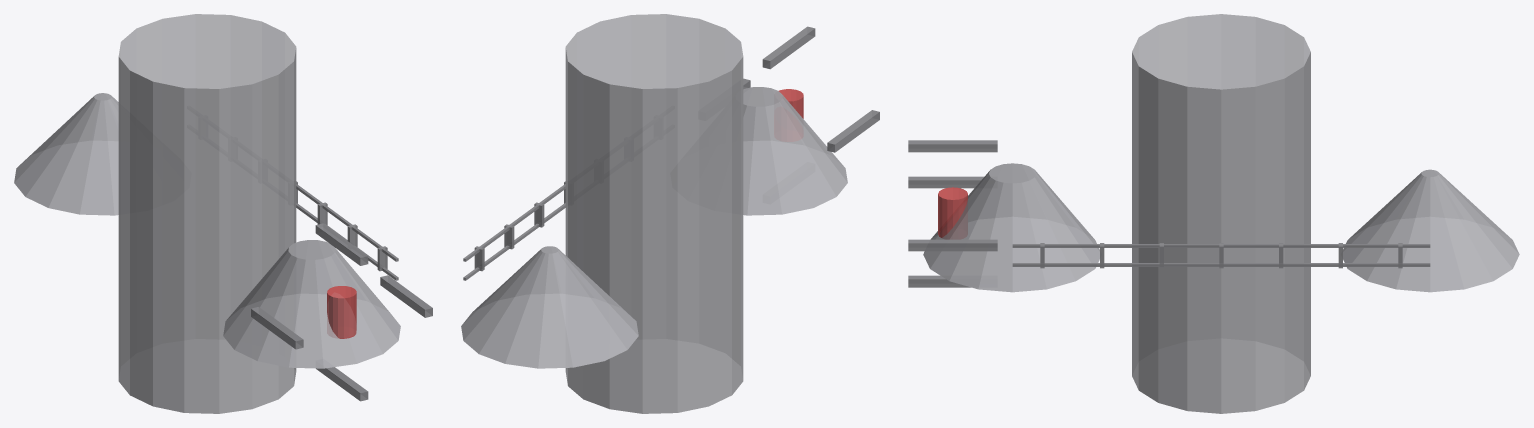
Rendered from storage_silo.glb.
The picture shows the model from 3 angles, left to right: view 1: azimuth 30°, elevation 25°; view 2: azimuth 150°, elevation 25°; view 3: azimuth 270°, elevation 25°; orthographic projection.
Parts seen in each view (by area): view 1: SiloBody, SiloBottom, SiloTop, Valve, Leg_90, Leg_0, Leg_180, Leg_270, LadderRail_0.35; view 2: SiloBody, SiloTop, SiloBottom, Valve, Leg_90, Leg_180, LadderRail_0.35, LadderRail_-0.35; view 3: SiloBody, SiloBottom, SiloTop, LadderRail_0.35, LadderRail_-0.35, Valve, Leg_0, Leg_90, Leg_180, Leg_270.
Part boxes in pixels (left/top/right/bottom): SiloBody: left=118, top=14, right=296, bottom=413; SiloBottom: left=223, top=240, right=400, bottom=368; SiloTop: left=14, top=93, right=118, bottom=215; Valve: left=327, top=286, right=356, bottom=338; Leg_90: left=315, top=223, right=368, bottom=265; Leg_0: left=380, top=275, right=432, bottom=317; Leg_180: left=251, top=307, right=303, bottom=349; Leg_270: left=316, top=367, right=368, bottom=401; LadderRail_0.35: left=296, top=184, right=398, bottom=261; SiloBody: left=565, top=14, right=743, bottom=413; SiloTop: left=461, top=246, right=638, bottom=368; SiloBottom: left=743, top=87, right=847, bottom=215; Valve: left=774, top=89, right=803, bottom=141; Leg_90: left=762, top=26, right=815, bottom=69; Leg_180: left=827, top=110, right=879, bottom=152; LadderRail_0.35: left=463, top=184, right=565, bottom=261; LadderRail_-0.35: left=463, top=203, right=565, bottom=280; SiloBody: left=1132, top=14, right=1310, bottom=413; SiloBottom: left=923, top=163, right=1099, bottom=292; SiloTop: left=1343, top=169, right=1519, bottom=292; LadderRail_0.35: left=1012, top=244, right=1430, bottom=247; LadderRail_-0.35: left=1012, top=263, right=1430, bottom=266; Valve: left=938, top=187, right=967, bottom=238; Leg_0: left=908, top=239, right=997, bottom=251; Leg_90: left=908, top=140, right=997, bottom=152; Leg_180: left=908, top=176, right=983, bottom=188; Leg_270: left=908, top=275, right=970, bottom=287.
Size of the model in its own units: 6.45 by 12 by 20.5.
